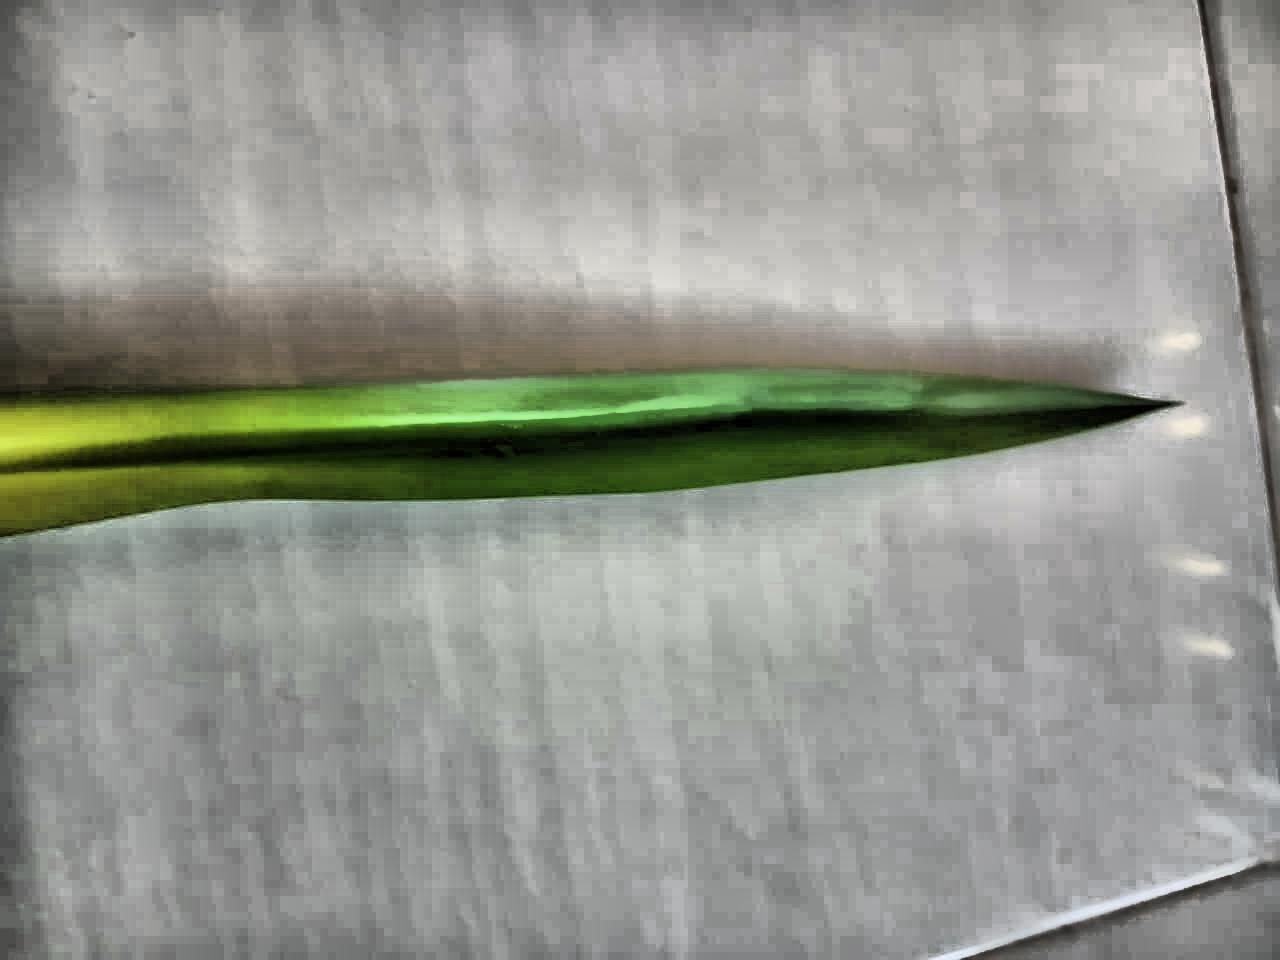daun pandan: (0, 370, 1173, 536)
